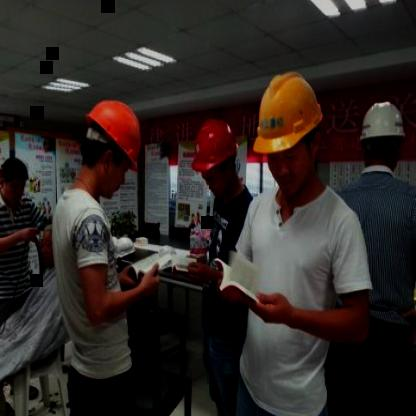head: (0, 152, 30, 212), (37, 222, 61, 268)
helmet: (252, 73, 328, 195), (72, 95, 144, 195), (190, 117, 242, 201), (356, 98, 406, 170)
